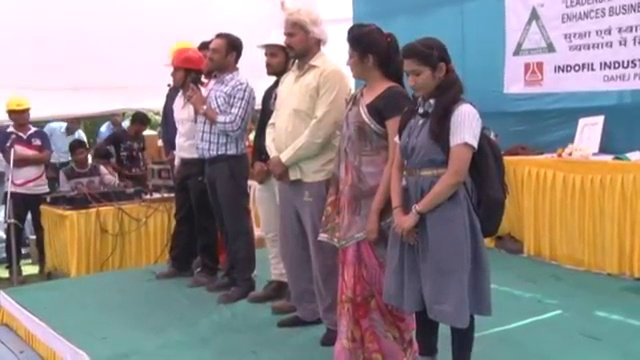helmet: (166, 41, 207, 74), (256, 29, 289, 51), (4, 96, 31, 114)
helmet_off: (397, 32, 459, 101), (343, 24, 399, 87), (276, 8, 326, 62), (199, 31, 244, 82), (122, 111, 149, 140), (68, 140, 91, 169), (61, 117, 84, 137), (106, 114, 124, 129)
helmet_on: (165, 46, 207, 94), (256, 29, 291, 81), (3, 96, 31, 132)
person: (390, 24, 508, 360), (324, 26, 417, 357), (265, 5, 350, 348), (189, 33, 250, 305), (151, 49, 219, 292), (249, 23, 294, 315), (0, 98, 53, 289), (58, 140, 126, 196), (102, 112, 150, 187), (41, 117, 90, 163), (95, 112, 131, 145)
